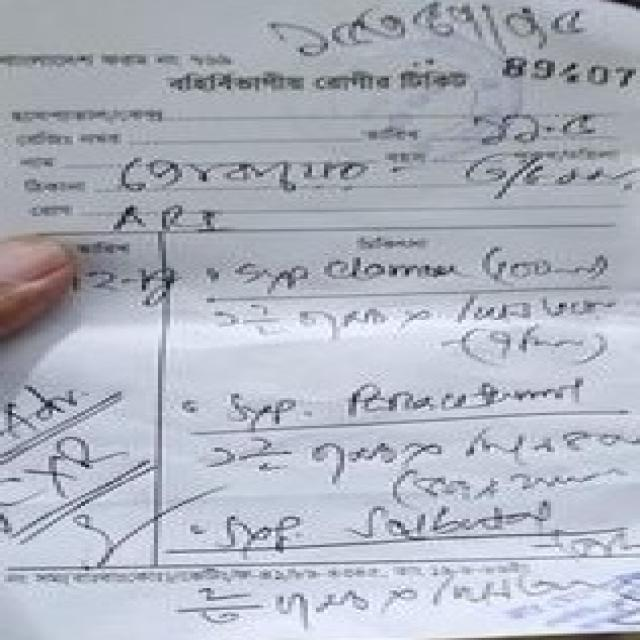Clamox: (302, 242, 497, 302)
Paracetamol: (315, 363, 600, 423)
Salbutal: (336, 496, 576, 546)
